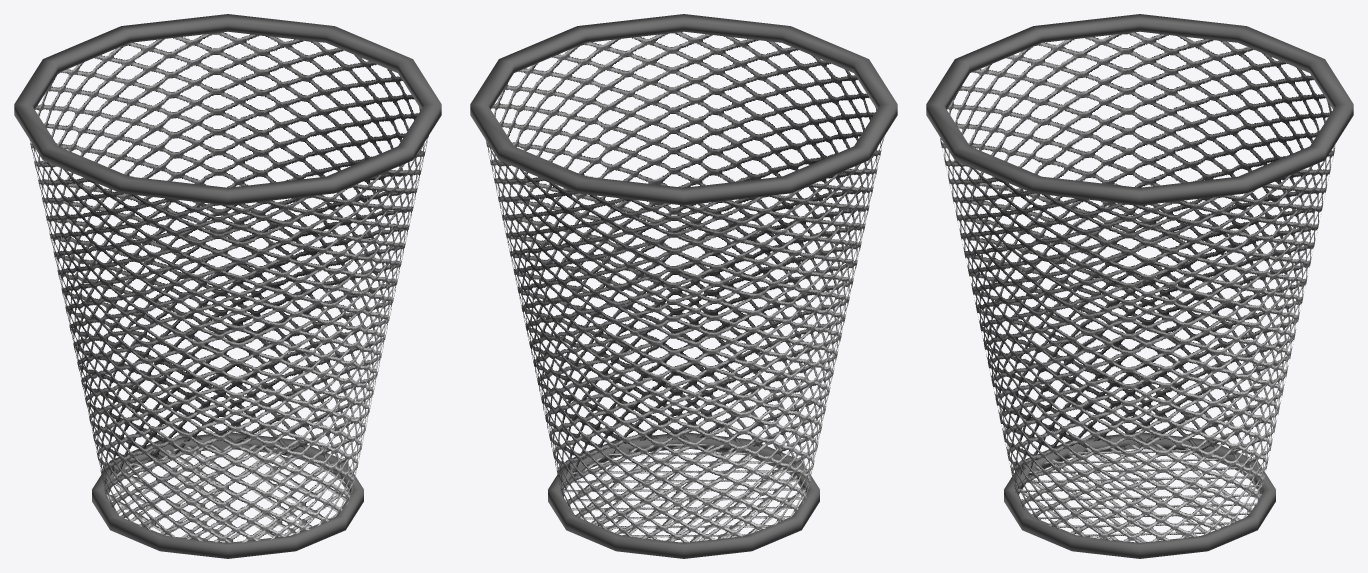
Rendered from trashcan.glb.
3 renders of one model, left to right at view 1: azimuth 30°, elevation 25°; view 2: azimuth 150°, elevation 25°; view 3: azimuth 270°, elevation 25°, orthographic.
Parts seen in each view (by area): view 1: Cylinder; view 2: Cylinder; view 3: Cylinder.
Part boxes in pixels (bbox=[...]): Cylinder: bbox=[14, 14, 441, 558]; Cylinder: bbox=[470, 14, 897, 558]; Cylinder: bbox=[926, 14, 1353, 558].
Size of the model in its own units: 0.5099 by 0.5226 by 0.5099.
1 material, 1 textured.
